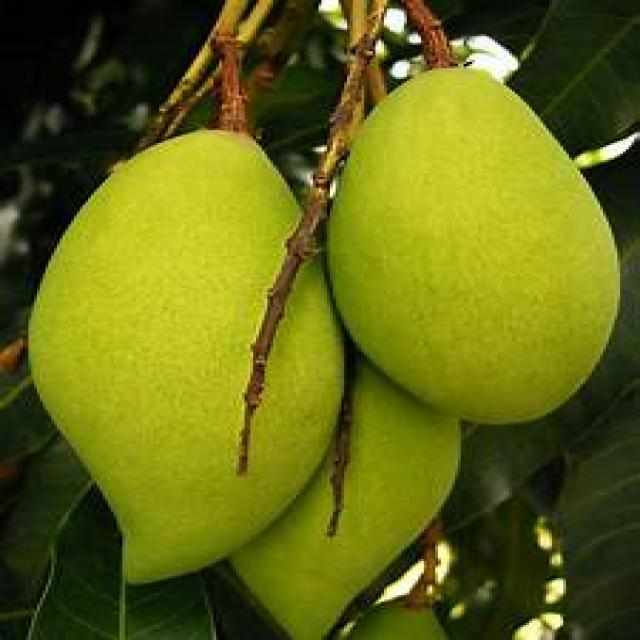Mango: (20, 124, 330, 587), (325, 61, 624, 428)
